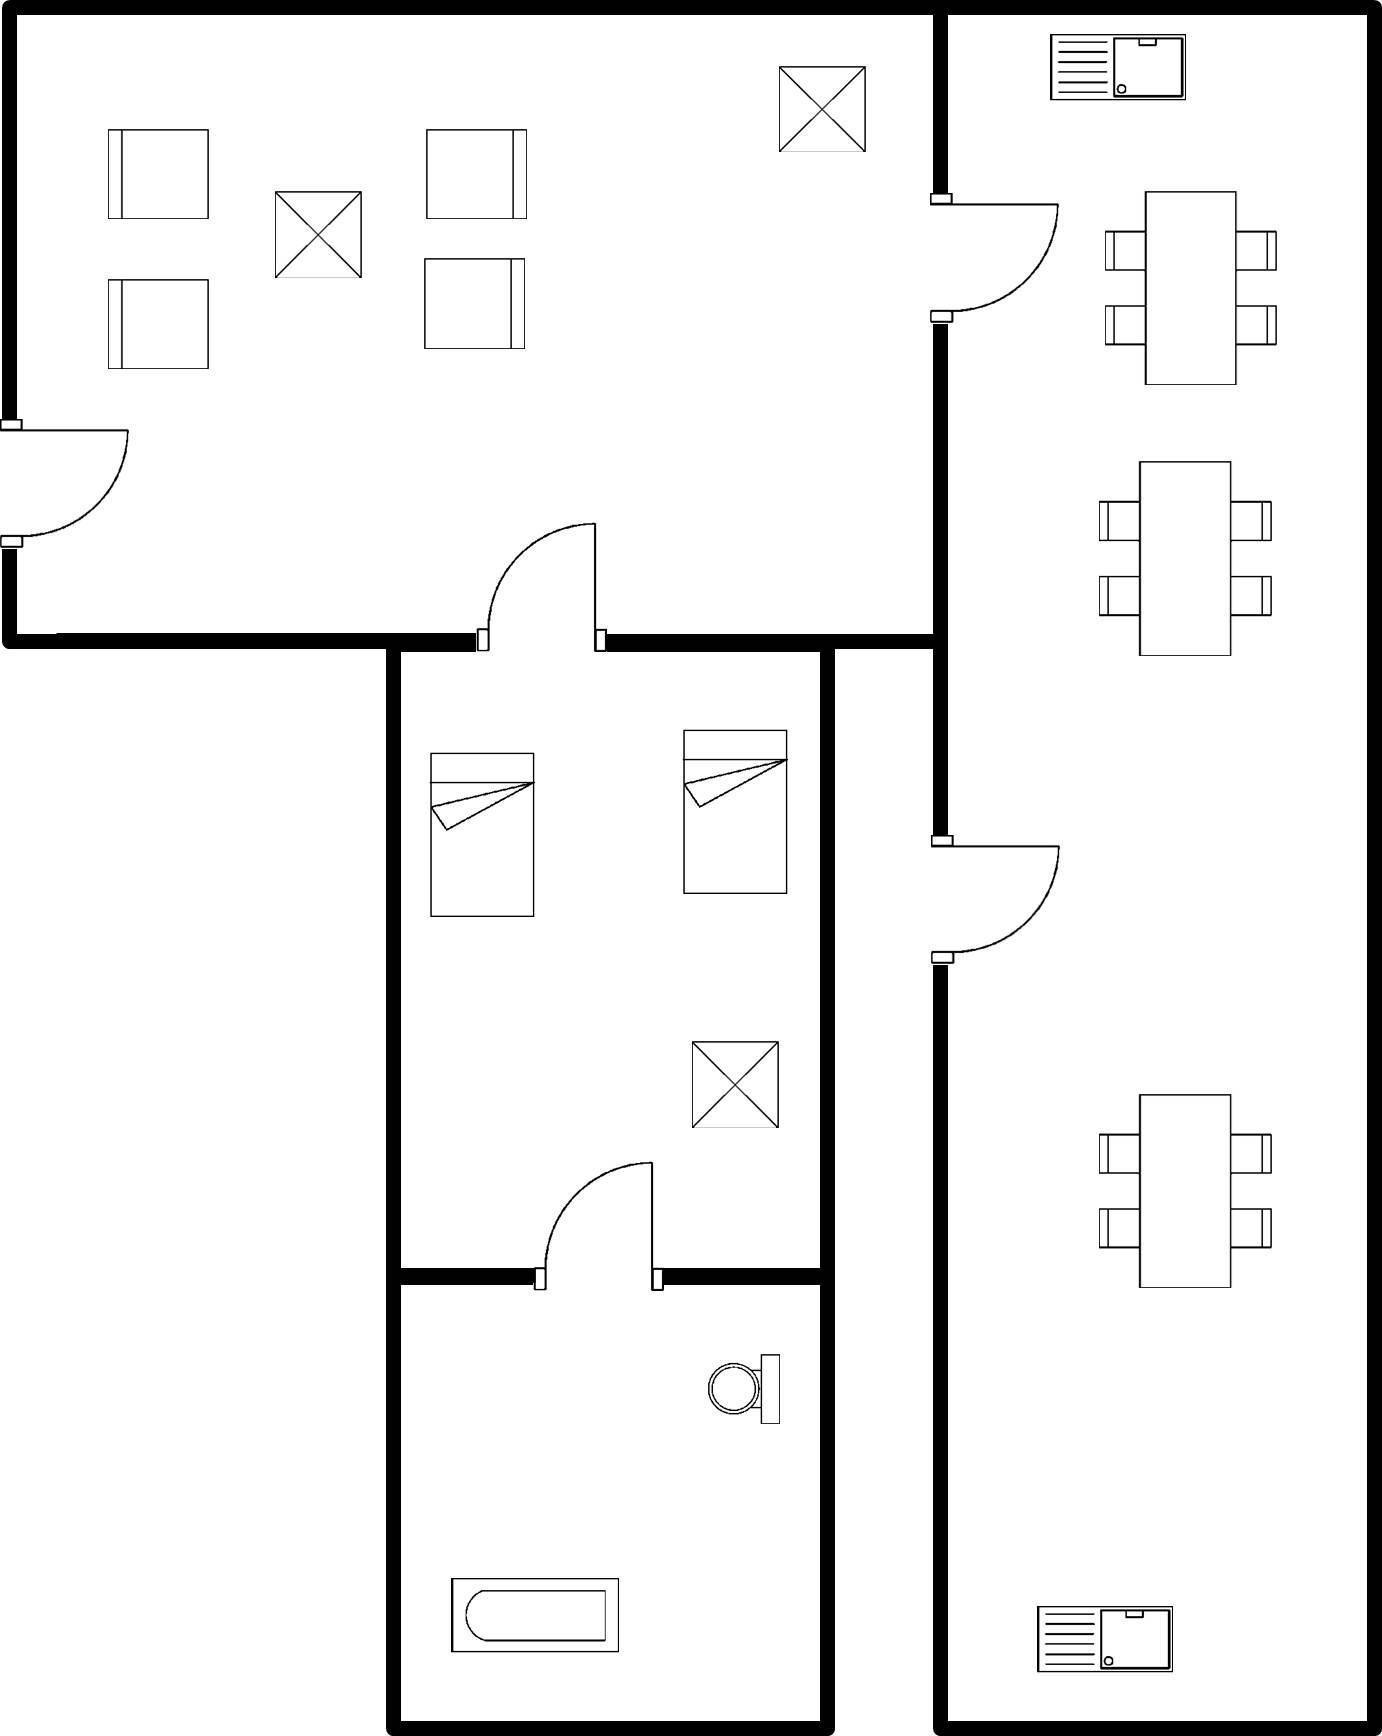bed: (416, 739, 549, 934), (670, 719, 797, 910)
dining_table: (1073, 1077, 1282, 1302), (1082, 446, 1282, 673), (1091, 178, 1288, 393)
sink: (1022, 1589, 1189, 1687), (1034, 21, 1194, 116)
toilet: (687, 1341, 788, 1438)
tub: (436, 1561, 628, 1665)
